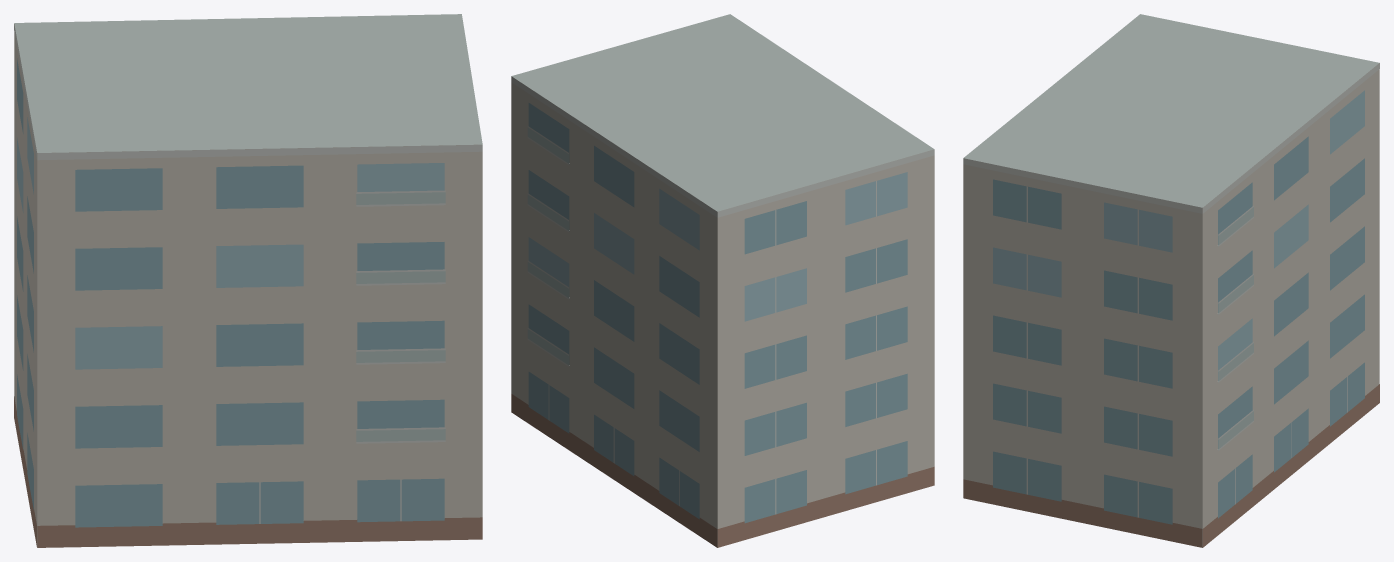
Rendered from survey-upis-32885010.glb.
3 renders of one model, left to right at view 1: azimuth 30°, elevation 25°; view 2: azimuth 150°, elevation 25°; view 3: azimuth 270°, elevation 25°, orthographic. The views are drawn at different scales.
Parts seen in each view (by area): view 1: survey-upis-32885010.tmp; view 2: survey-upis-32885010.tmp; view 3: survey-upis-32885010.tmp.
Part boxes in pixels (box(x1,y1,x2,y2)): survey-upis-32885010.tmp: box(14, 14, 482, 547); survey-upis-32885010.tmp: box(511, 14, 934, 547); survey-upis-32885010.tmp: box(963, 14, 1379, 547).
Size of the model in its own units: 16.5 by 13.5 by 14.99.
